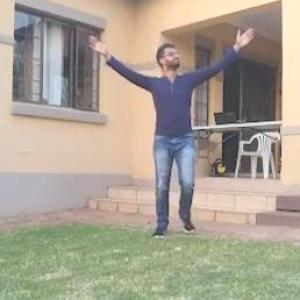takeoff: (79, 25, 249, 242)
